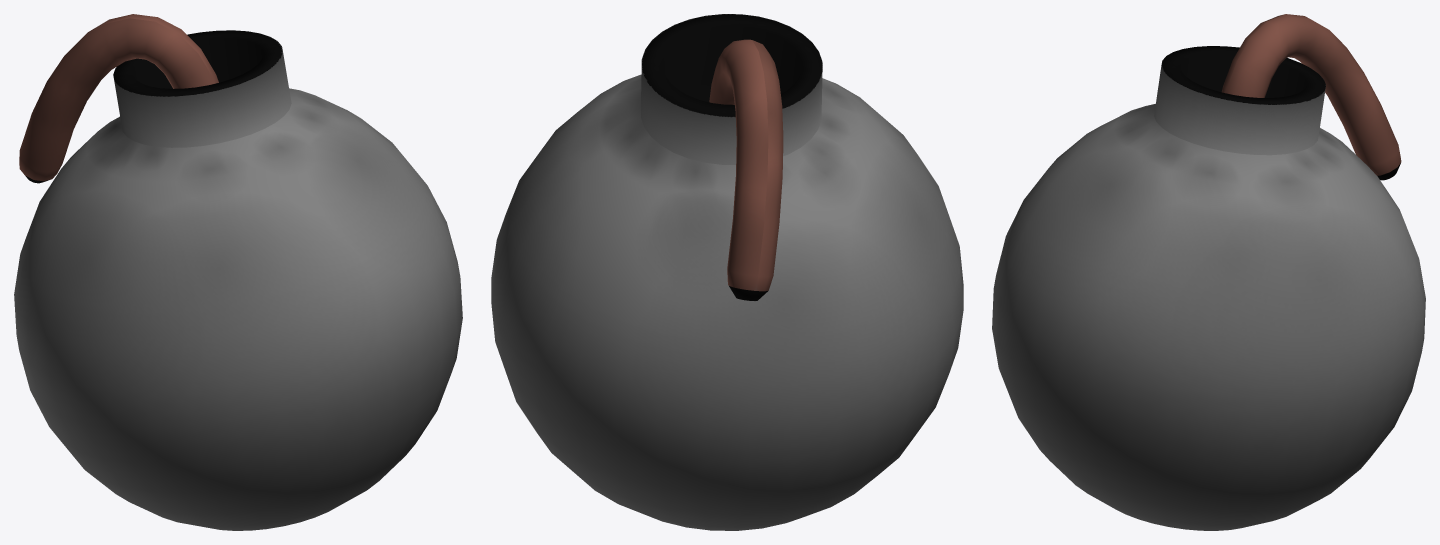
Rendered from Bomb.fbx.
3 renders of one model, left to right at view 1: azimuth 30°, elevation 25°; view 2: azimuth 150°, elevation 25°; view 3: azimuth 270°, elevation 25°, orthographic. The views are drawn at different scales.
Visible parts, largest first — view 1: Bomb; view 2: Bomb; view 3: Bomb.
Part boxes in pixels (x1,y1,x2,y2): Bomb: (14, 14, 462, 530); Bomb: (491, 14, 963, 530); Bomb: (992, 14, 1425, 530).
Bounding box in the file's own units: 159 × 188 × 160.
1 material, 1 textured.
